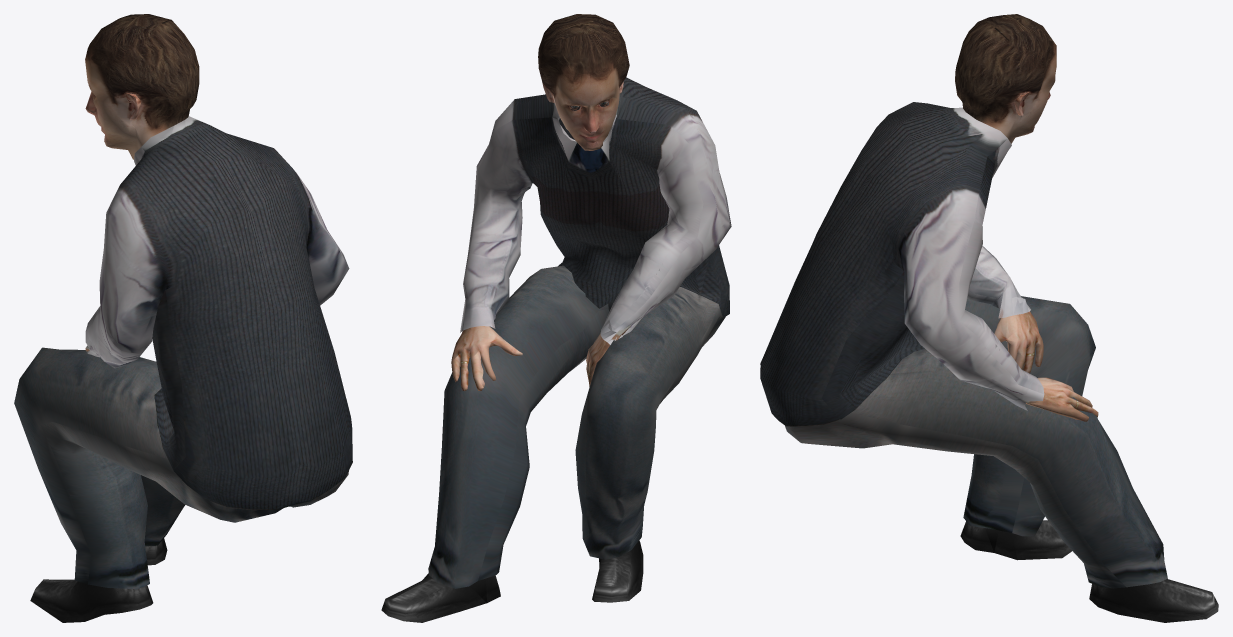
File: BMan0004-Se 1.obj
3 views of the same model, side by side, from view 1: azimuth 30°, elevation 25°; view 2: azimuth 150°, elevation 25°; view 3: azimuth 270°, elevation 25° (orthographic). The views are drawn at different scales.
Parts seen in each view (by area): view 1: bman0004_se_layer1; view 2: bman0004_se_layer1; view 3: bman0004_se_layer1.
Part boxes in pixels (<box>): bman0004_se_layer1: <box>14,14,352,622</box>; bman0004_se_layer1: <box>381,14,731,622</box>; bman0004_se_layer1: <box>760,14,1218,622</box>.
Bounding box in the file's own units: 0.5965 × 1.34 × 0.9992.
